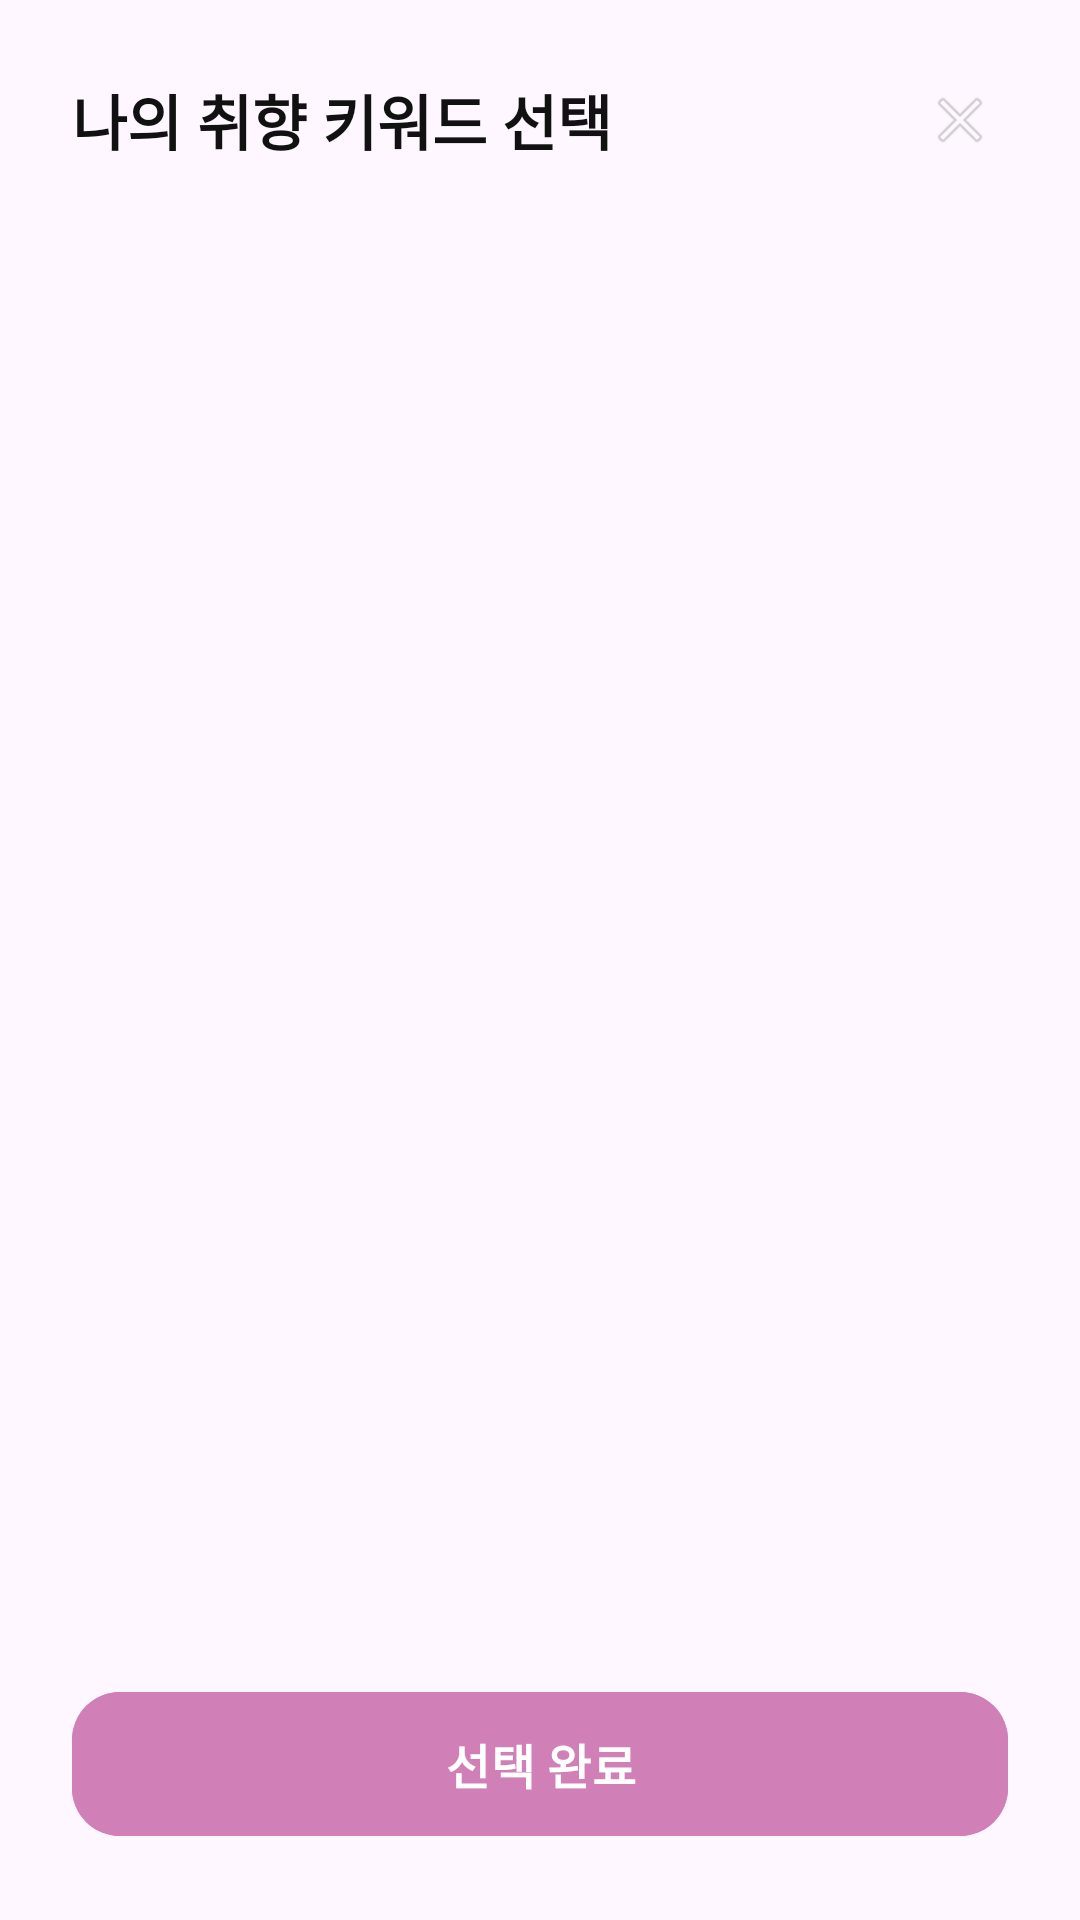

Locate icon controls on the screen. Image size 1080w x 1920h, boxes as bbox(x1, y1, x2, y2).
close: bbox(938, 98, 982, 142)
